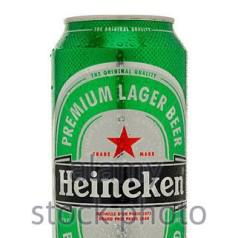beer: (49, 13, 189, 238)
